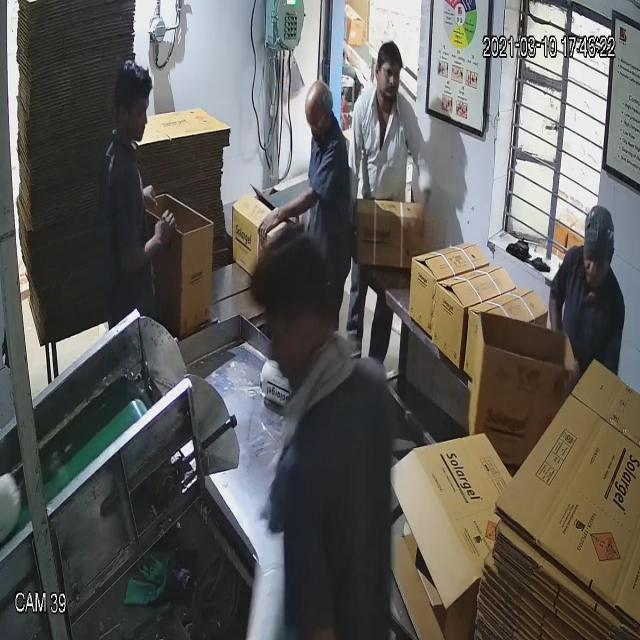No_Gloves: (32, 68, 421, 241)
